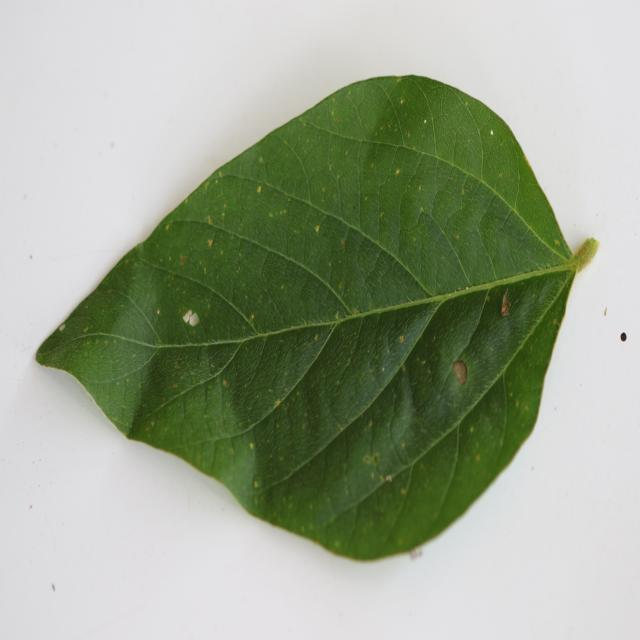Soybean: (34, 76, 599, 565)
downey_mildew: (128, 250, 350, 456), (39, 256, 186, 426), (345, 383, 484, 555), (265, 404, 418, 544), (137, 343, 254, 468), (483, 282, 569, 447), (399, 142, 539, 230), (131, 255, 268, 344), (327, 198, 428, 313), (368, 145, 446, 270), (188, 175, 302, 255), (67, 317, 284, 359), (487, 253, 579, 340), (252, 241, 342, 328), (482, 193, 562, 286), (320, 288, 466, 334), (442, 186, 510, 284), (403, 205, 473, 298), (426, 344, 496, 434), (251, 134, 317, 227), (313, 211, 364, 306), (421, 280, 489, 351), (211, 314, 359, 346), (121, 263, 169, 350), (340, 80, 398, 138), (480, 124, 519, 205), (331, 136, 363, 232), (228, 182, 247, 338), (249, 158, 268, 308), (304, 125, 398, 152), (447, 116, 484, 178), (200, 173, 229, 232)
